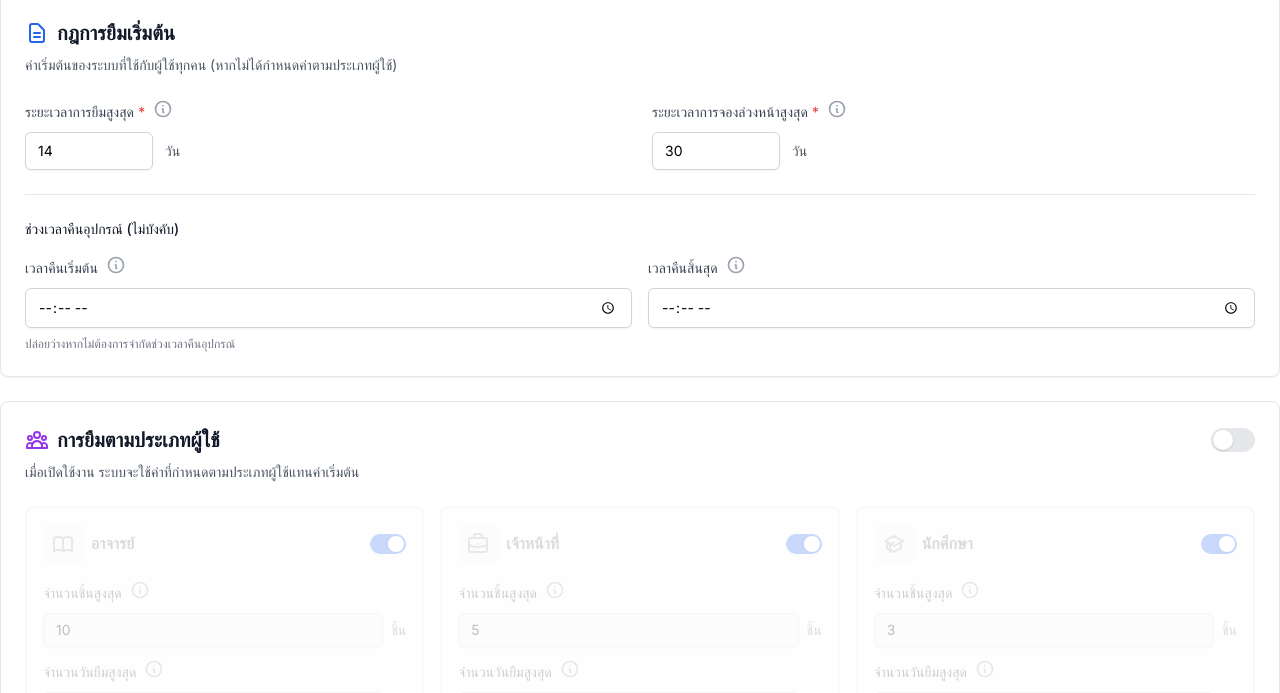
Scenario: UnifiedLoanSettingsTab Integration Tests › Task 8.2: Save/Load Flow › should display error message when save fails
Modify a setting
Replace the text in the number field with id "maxLoanDuration" with "21" at coordinates (89, 151), box [25,132,153,170]
(page scrolled)
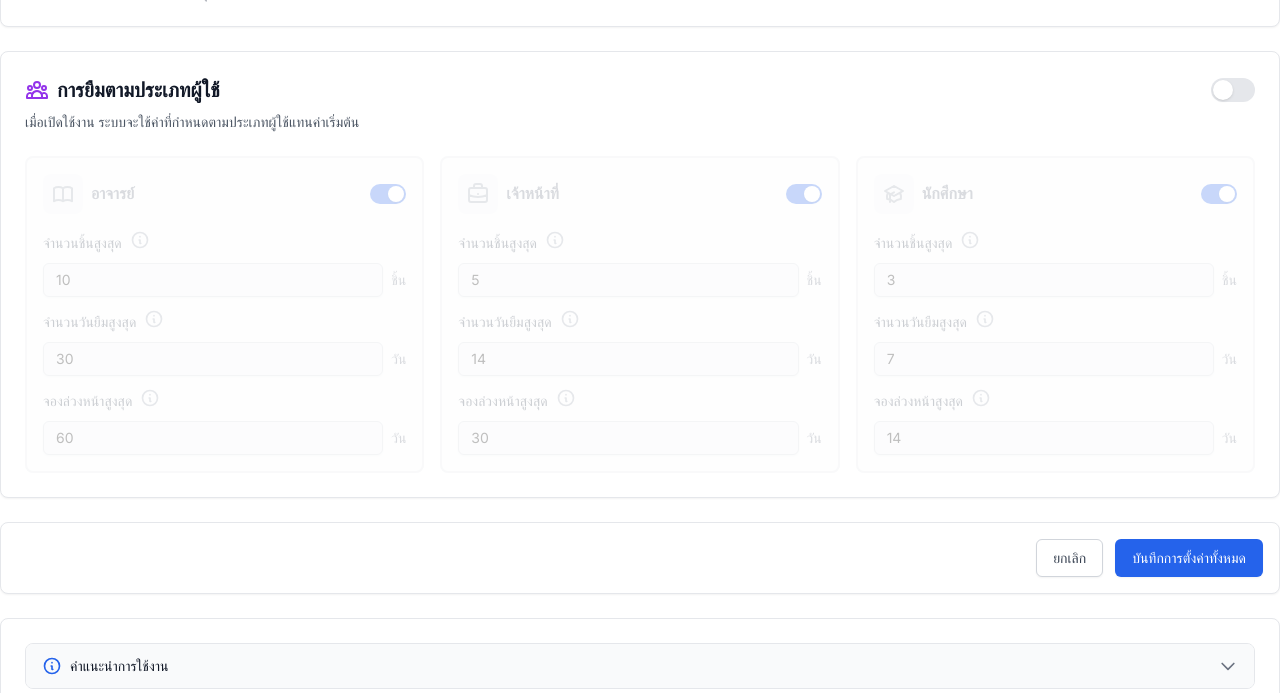
Click save button
Click the button "บันทึกการตั้งค่าทั้งหมด" at coordinates (1189, 558), box [1115,539,1263,577]
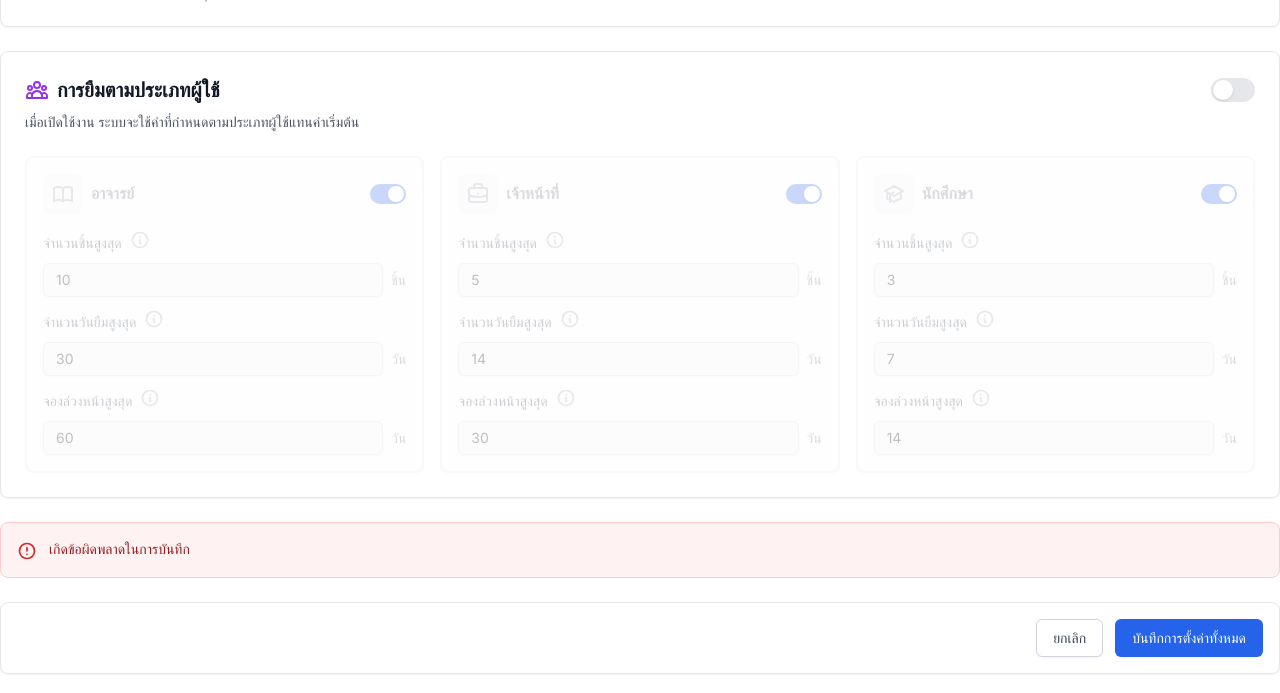
Expected: the text "เกิดข้อผิดพลาดในการบันทึก" is shown, [49,540,190,557]
